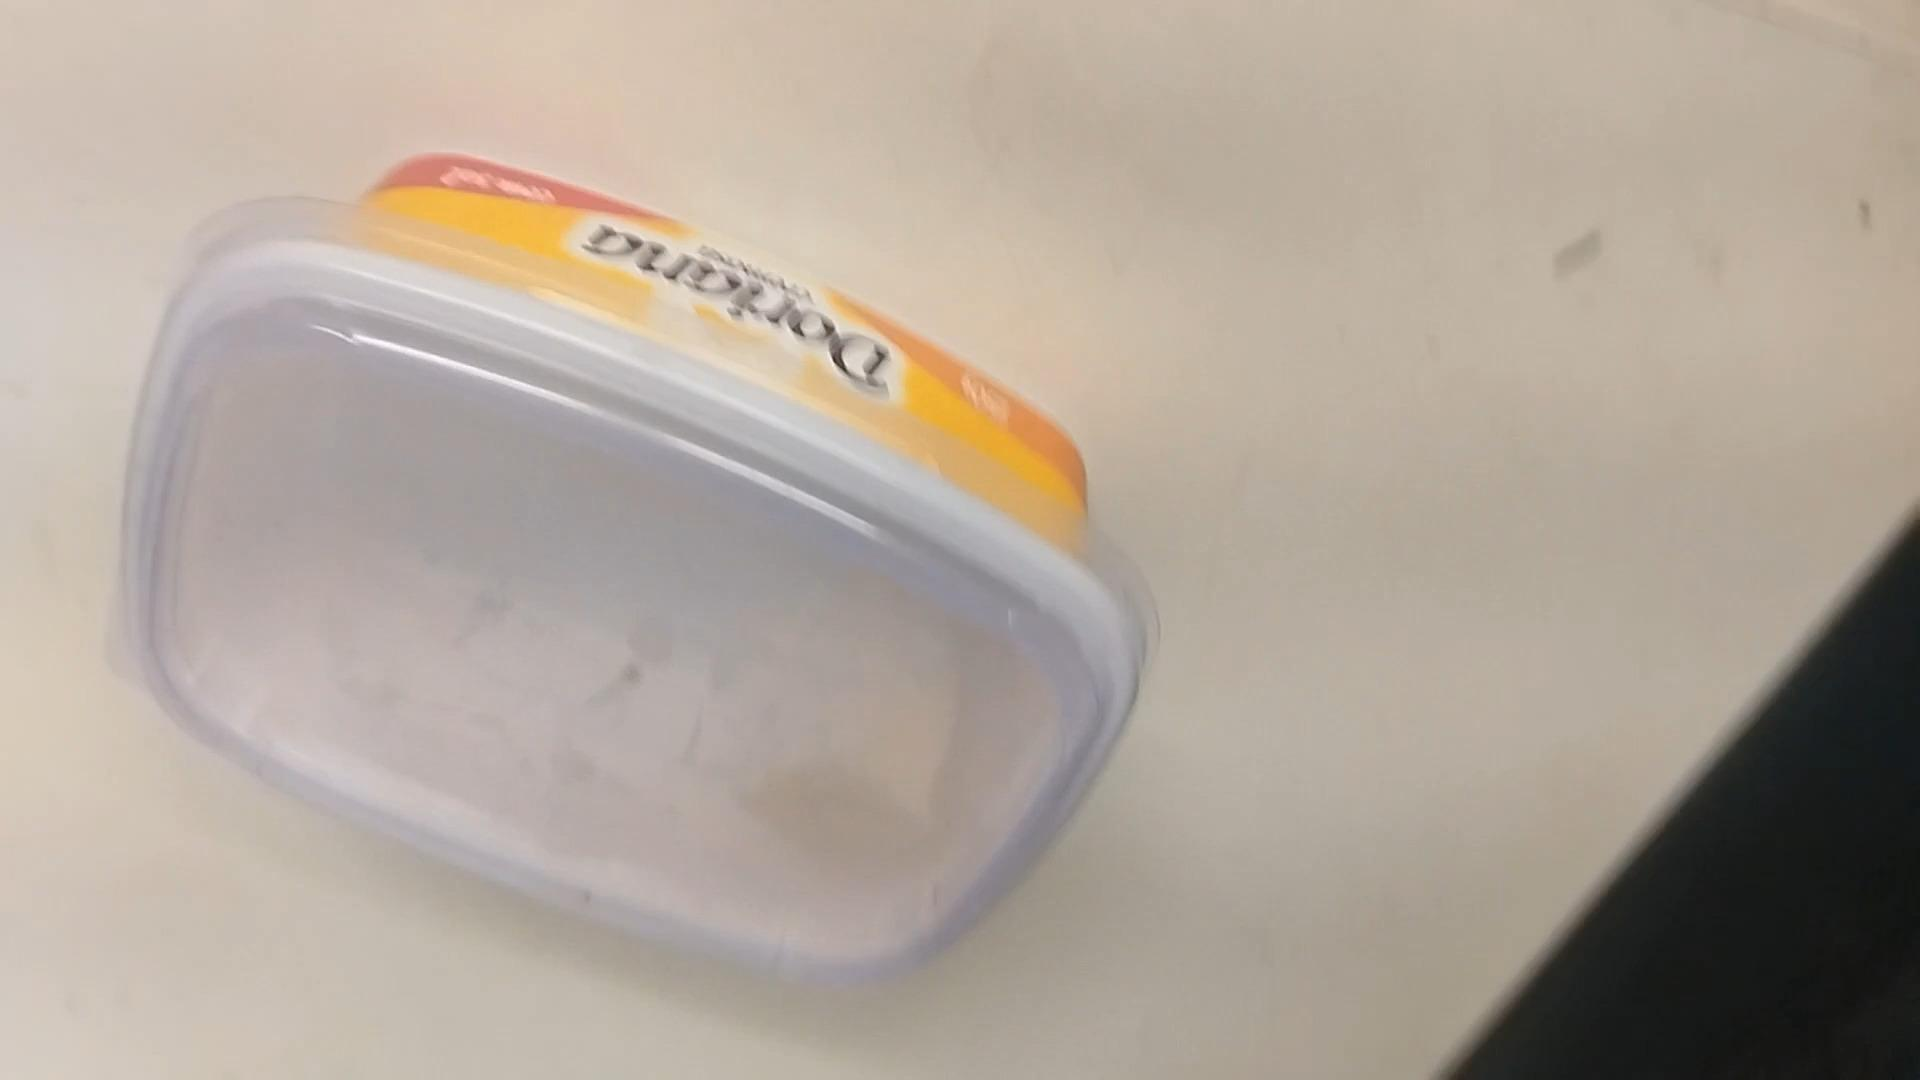butter: (113, 177, 1143, 990)
